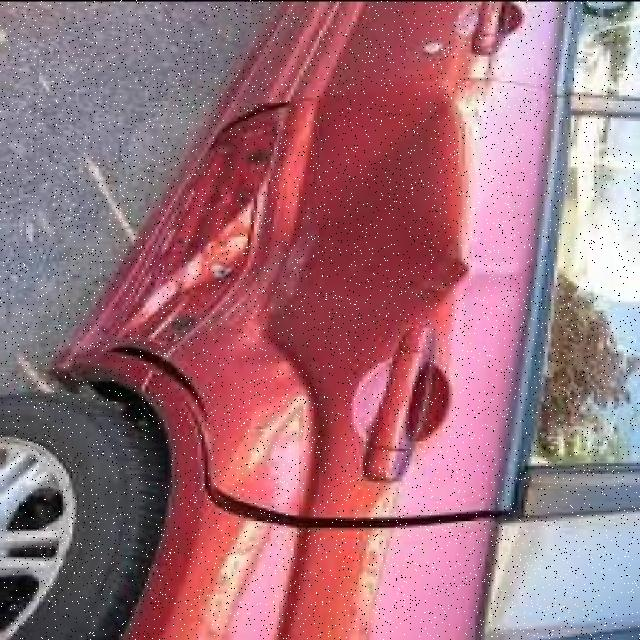damage: (74, 84, 480, 514)
